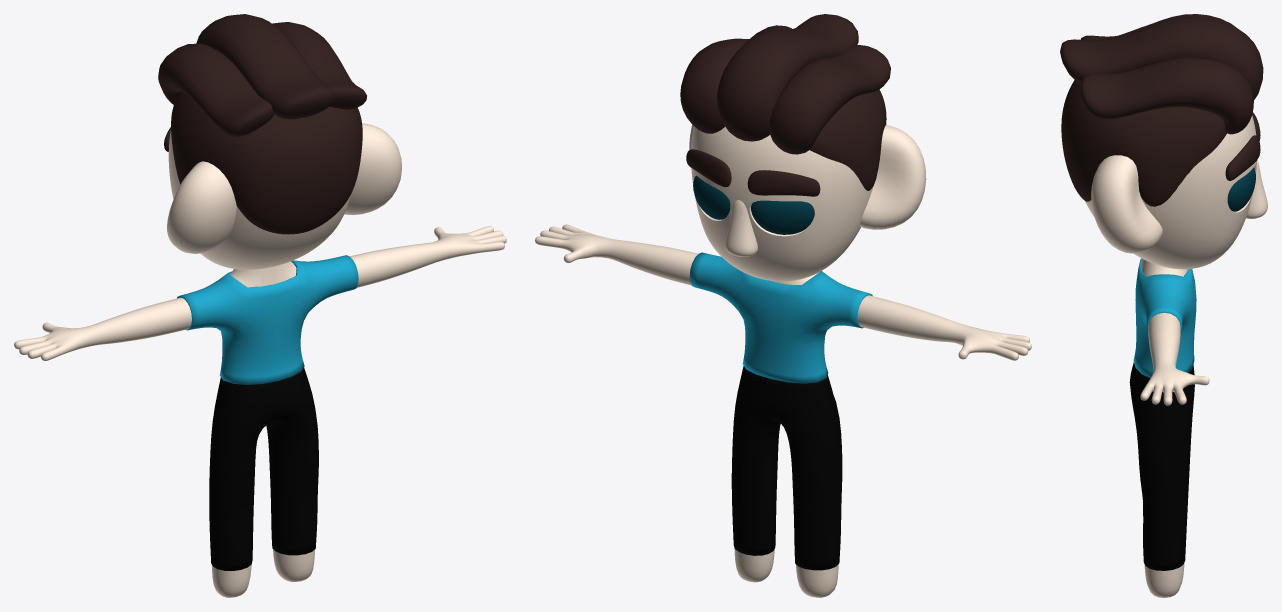
File: MaleNPC1.fbx
3 renders of one model, left to right at view 1: azimuth 30°, elevation 25°; view 2: azimuth 150°, elevation 25°; view 3: azimuth 270°, elevation 25°, orthographic.
Parts seen in each view (by area): view 1: Trousers, Hairbase, HairExtra, Head.002, Shirt, Body.002; view 2: Head.002, HairExtra, Trousers, Shirt, Body.002, Hairbase, Brows.001; view 3: HairExtra, Head.002, Hairbase, Trousers, Body.002, Shirt, Brows.001.
Part boxes in pixels (left/top/right/bottom): Trousers: left=209, top=368, right=318, bottom=570; Hairbase: left=171, top=91, right=362, bottom=234; HairExtra: left=158, top=14, right=366, bottom=137; Head.002: left=167, top=123, right=401, bottom=269; Shirt: left=177, top=255, right=358, bottom=384; Body.002: left=14, top=226, right=506, bottom=597; Head.002: left=689, top=125, right=926, bottom=281; HairExtra: left=680, top=14, right=890, bottom=154; Trousers: left=731, top=366, right=842, bottom=570; Shirt: left=689, top=252, right=872, bottom=383; Body.002: left=535, top=224, right=1031, bottom=597; Hairbase: left=693, top=89, right=886, bottom=190; Brows.001: left=686, top=149, right=820, bottom=196; HairExtra: left=1060, top=14, right=1263, bottom=134; Head.002: left=1085, top=115, right=1267, bottom=269; Hairbase: left=1061, top=80, right=1226, bottom=206; Trousers: left=1129, top=362, right=1194, bottom=570; Body.002: left=1140, top=258, right=1209, bottom=597; Shirt: left=1133, top=258, right=1196, bottom=378; Brows.001: left=1225, top=112, right=1260, bottom=180.
Bounding box in the file's own units: 172 × 189 × 63.79.
